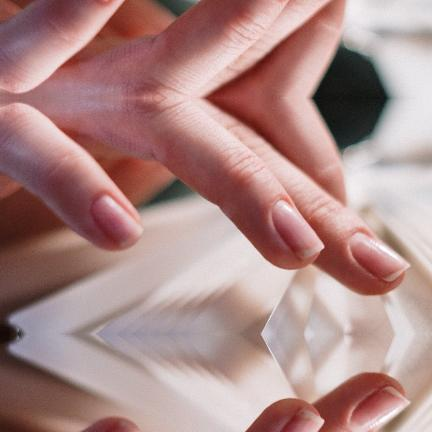Nail: (272, 199, 325, 258), (350, 231, 410, 281), (350, 385, 410, 432), (91, 194, 143, 248), (280, 408, 325, 432), (106, 419, 140, 432)
